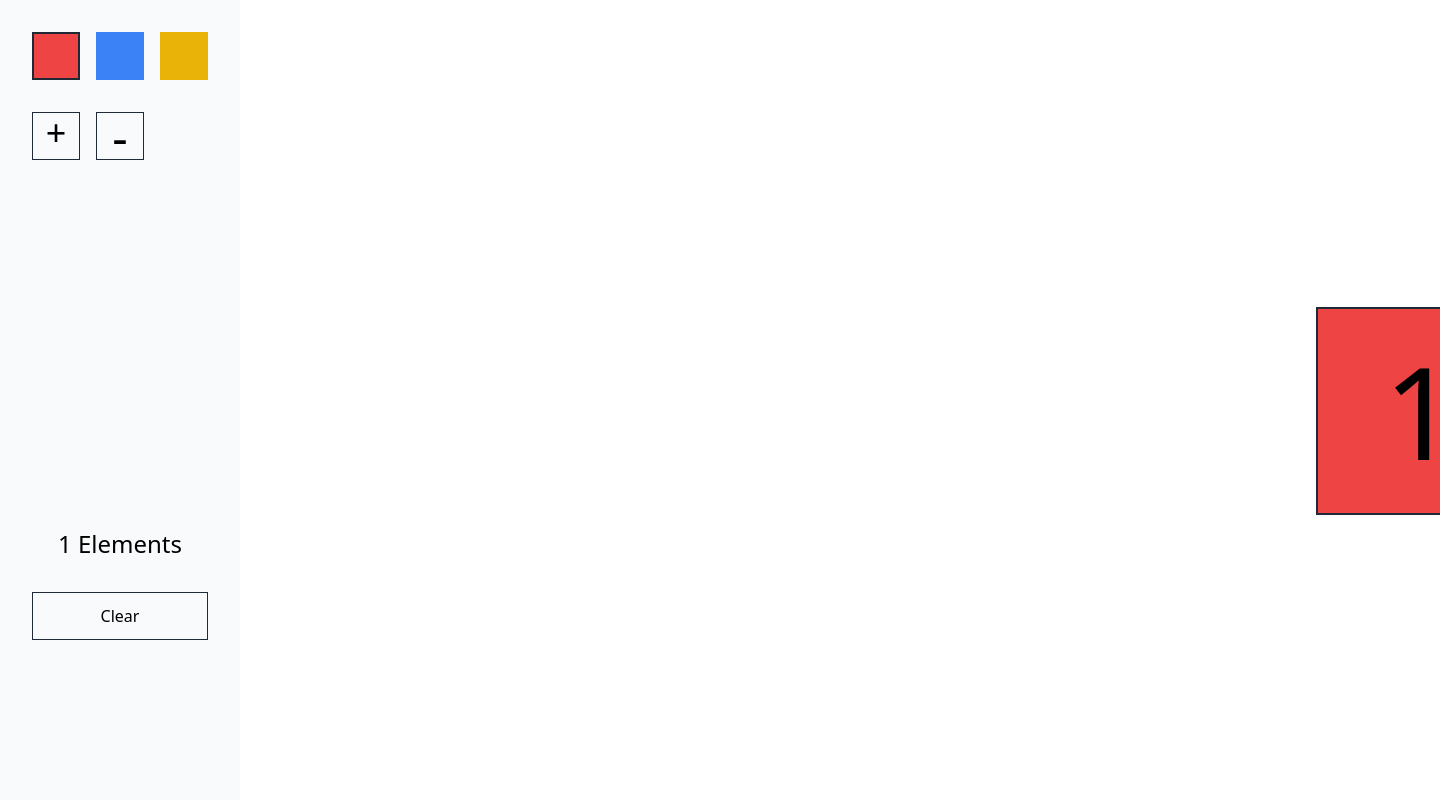
Test case: Draw colorful boxes › Add box with Blue color
Click the 2nd element with test id "box-with-color" at point(120, 56), box [96, 32, 144, 80]
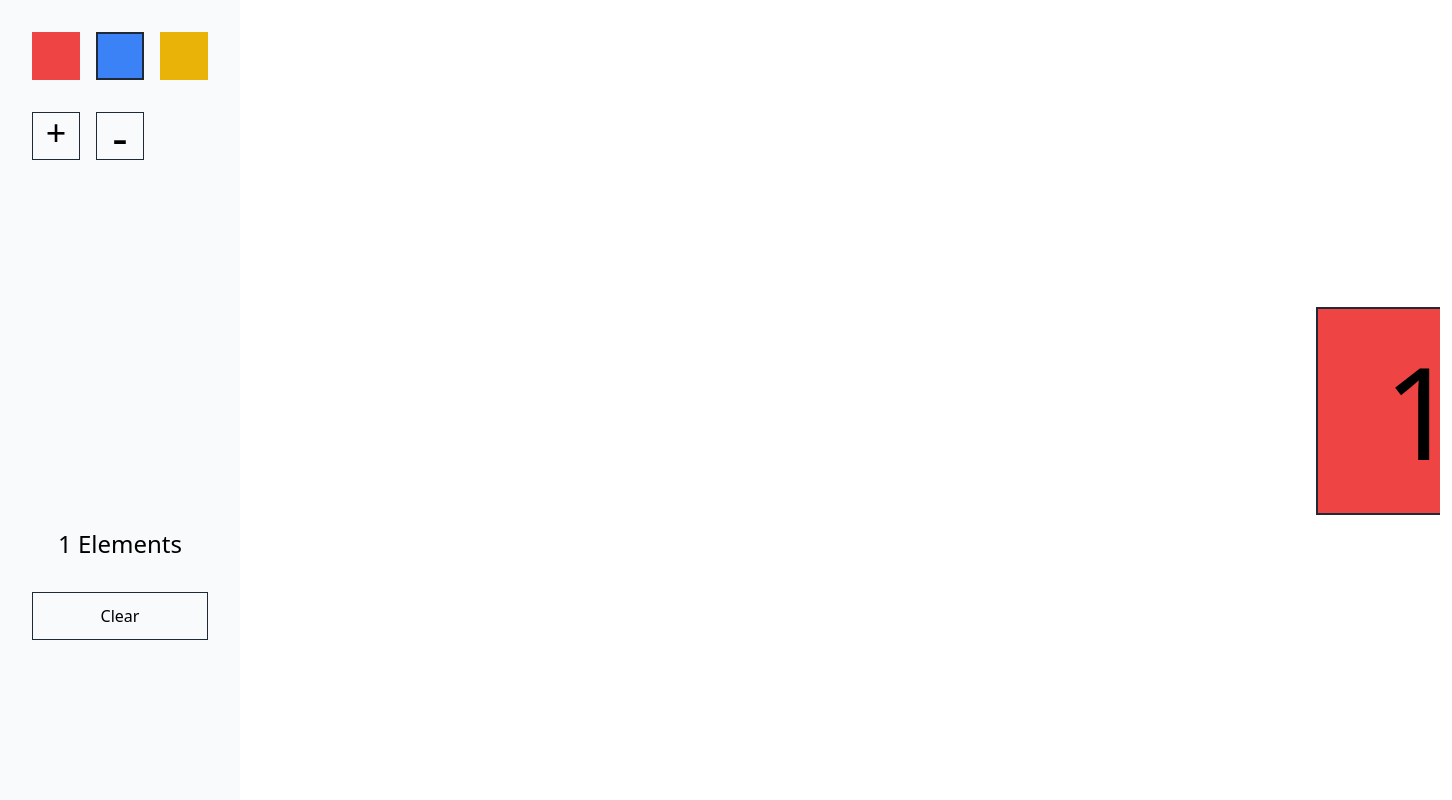
Click the element with test id "plus-button" at point(56, 136), box [32, 112, 80, 160]
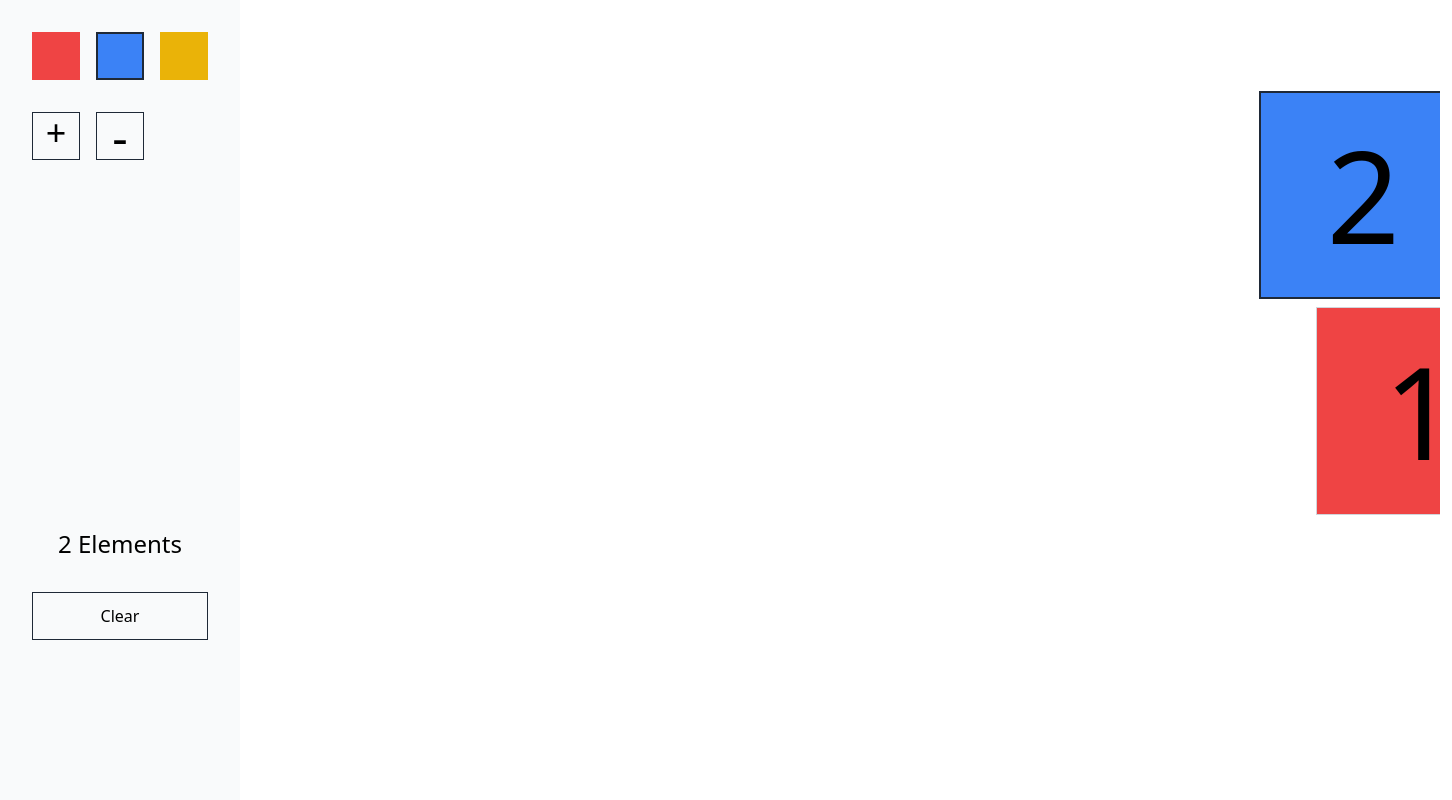
Expected: the element with test id "color-box" reads "2", [1259, 91, 1440, 299]
